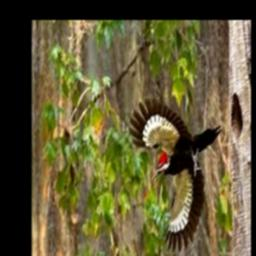Woodpecker: (126, 96, 222, 249)
